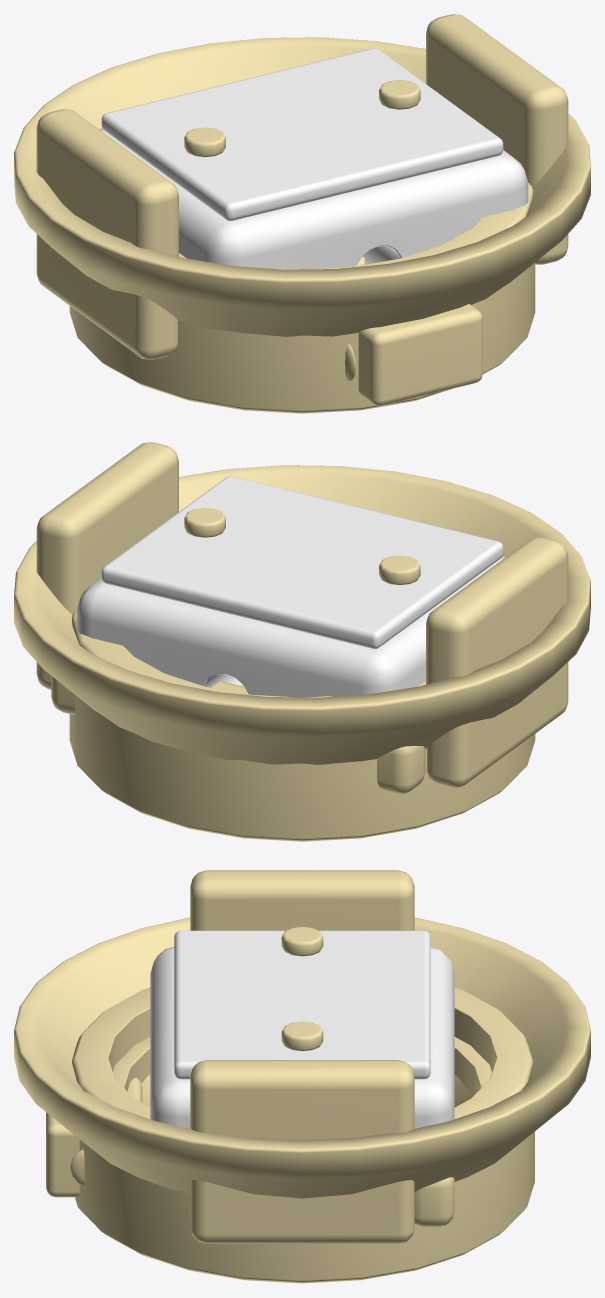
3 renders of one model, top to bottom at view 1: azimuth 30°, elevation 25°; view 2: azimuth 150°, elevation 25°; view 3: azimuth 270°, elevation 25°, orthographic.
Parts seen in each view (by area): view 1: LiftIntake / Polished pale brass, BarEndBlock / Dense charcoal wool felt, LiftHead / Polished pale brass, FunnelSleeve / Polished pale brass, Walnut cord block, Ferrule / Polished pale brass, BarEndBlock / Polished pale brass; view 2: LiftIntake / Polished pale brass, BarEndBlock / Dense charcoal wool felt, LiftHead / Polished pale brass, FunnelSleeve / Polished pale brass, Walnut cord block, BarEndBlock / Polished pale brass; view 3: LiftIntake / Polished pale brass, LiftHead / Polished pale brass, FunnelSleeve / Polished pale brass, BarEndBlock / Dense charcoal wool felt, Walnut cord block, Ferrule / Polished pale brass, BarEndBlock / Polished pale brass.
Part boxes in pixels (x1,y1,x2,y2): LiftIntake / Polished pale brass: [14, 37, 590, 336]; BarEndBlock / Dense charcoal wool felt: [101, 48, 503, 220]; LiftHead / Polished pale brass: [36, 14, 568, 359]; FunnelSleeve / Polished pale brass: [69, 183, 535, 413]; Walnut cord block: [99, 128, 528, 269]; Ferrule / Polished pale brass: [345, 304, 482, 405]; BarEndBlock / Polished pale brass: [184, 80, 420, 157]; LiftIntake / Polished pale brass: [14, 465, 590, 764]; BarEndBlock / Dense charcoal wool felt: [101, 476, 503, 648]; LiftHead / Polished pale brass: [36, 442, 568, 793]; FunnelSleeve / Polished pale brass: [69, 611, 535, 841]; Walnut cord block: [76, 556, 505, 697]; BarEndBlock / Polished pale brass: [184, 508, 420, 585]; LiftIntake / Polished pale brass: [14, 917, 590, 1198]; LiftHead / Polished pale brass: [190, 870, 454, 1243]; FunnelSleeve / Polished pale brass: [72, 987, 534, 1283]; BarEndBlock / Dense charcoal wool felt: [174, 930, 430, 1079]; Walnut cord block: [150, 947, 454, 1128]; Ferrule / Polished pale brass: [46, 1037, 491, 1197]; BarEndBlock / Polished pale brass: [281, 926, 323, 1051].
Size of the model in its own units: 0.036 by 0.015 by 0.036.
